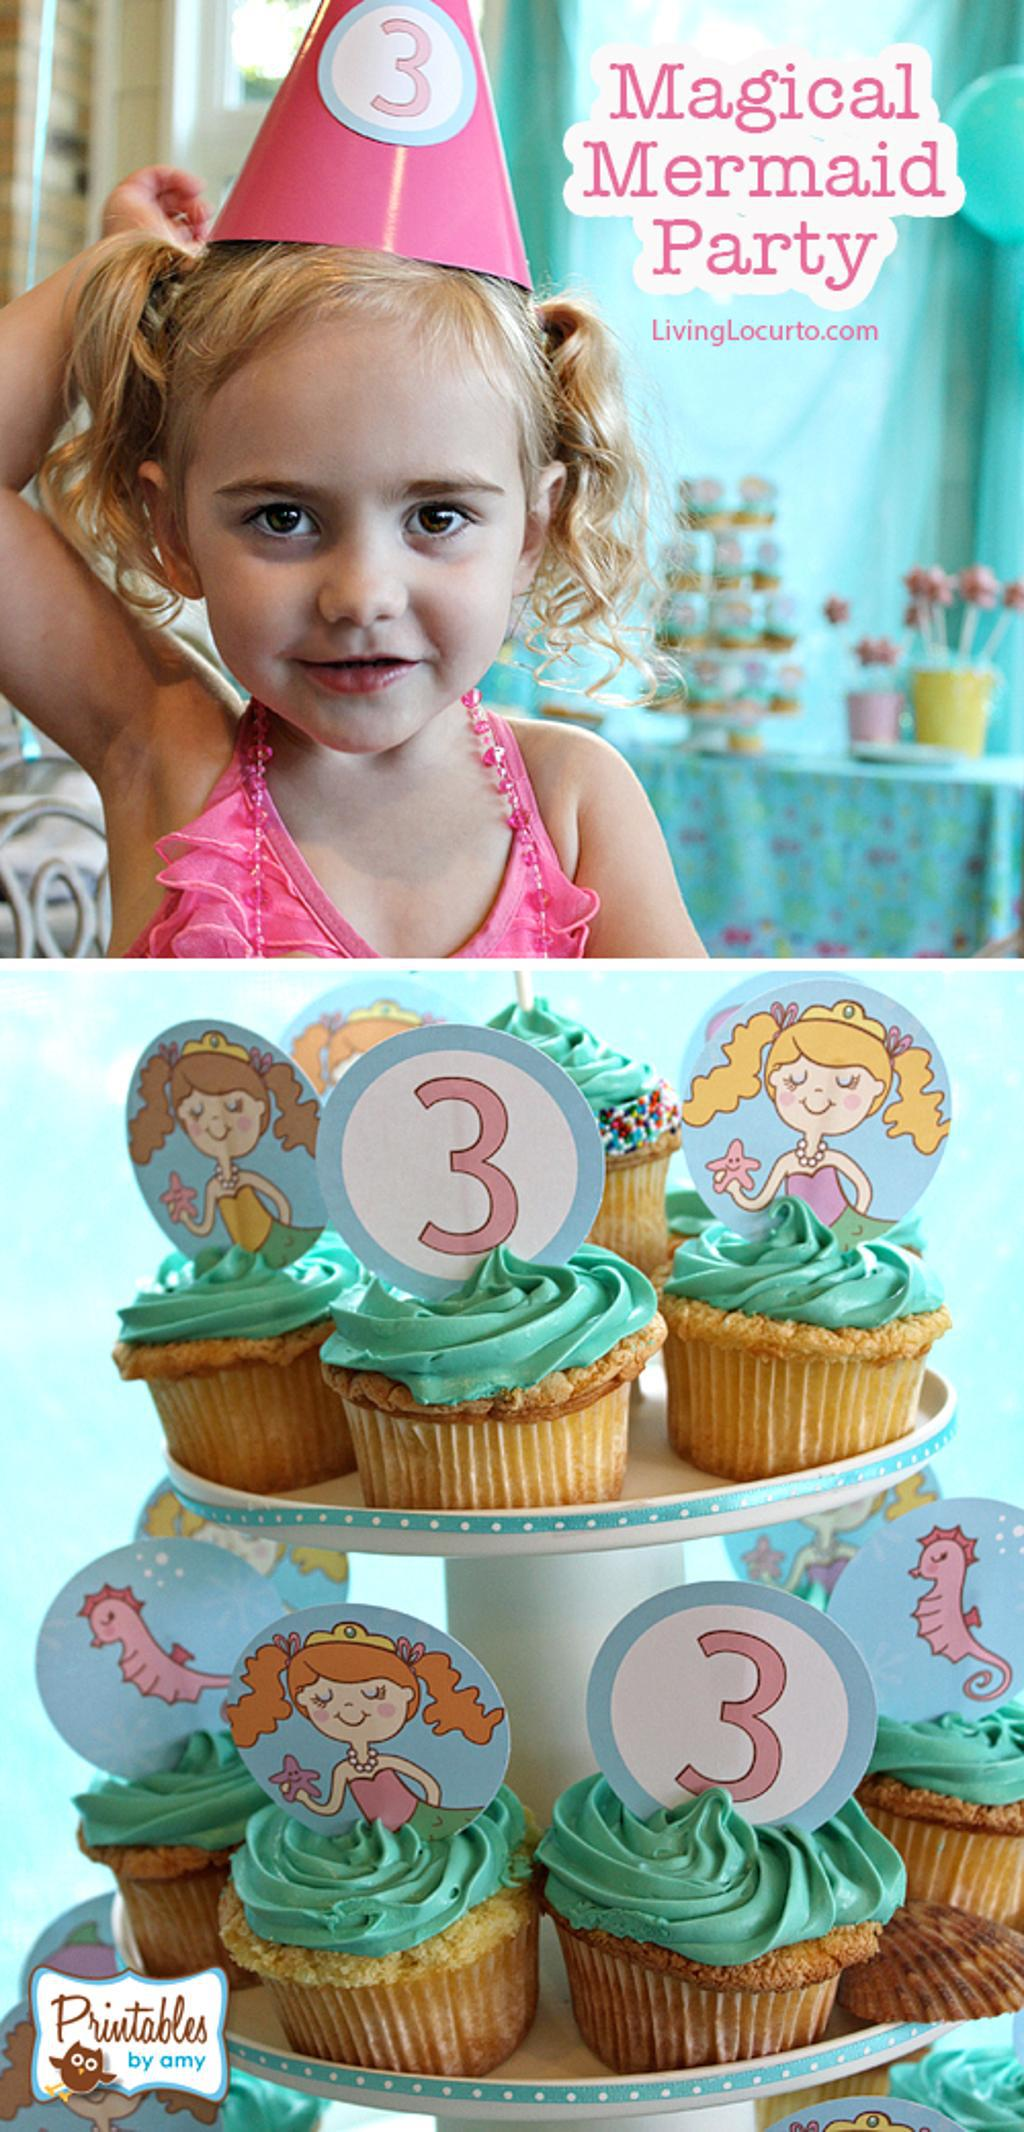face: (188, 338, 521, 746)
